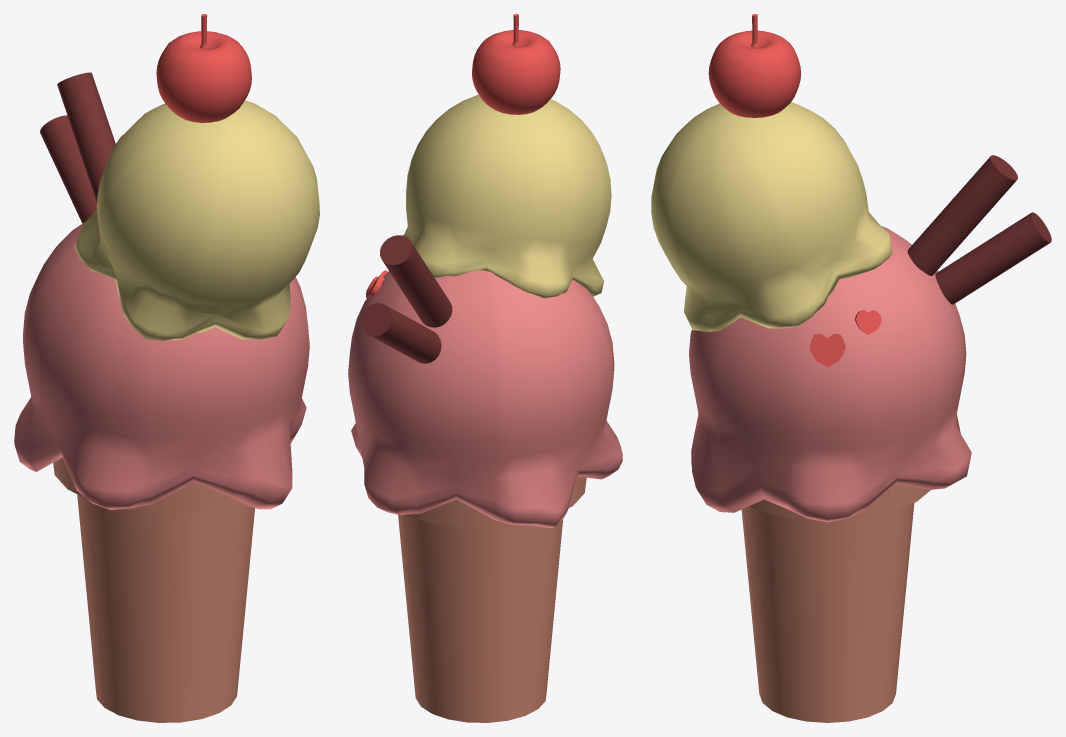
The model's file is icecream.fbx.
3 renders of one model, left to right at view 1: azimuth 30°, elevation 25°; view 2: azimuth 150°, elevation 25°; view 3: azimuth 270°, elevation 25°, orthographic. The views are drawn at different scales.
Parts seen in each view (by area): view 1: group2; view 2: group2; view 3: group2.
Boxes of the visible parts, x1=… form: group2: x1=14, y1=14, x2=319, y2=722; group2: x1=348, y1=14, x2=622, y2=722; group2: x1=651, y1=14, x2=1051, y2=722.
Size of the model in its own units: 48.72 by 128 by 68.64.
